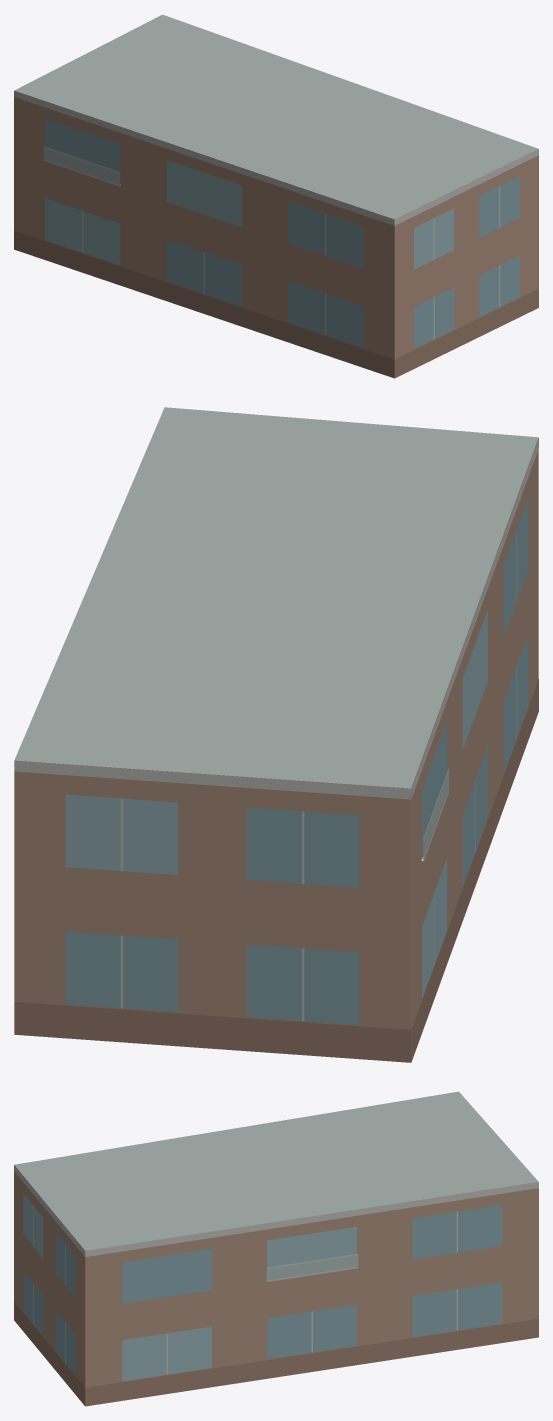
File: survey-upis-32929652.glb
3 renders of one model, top to bottom at view 1: azimuth 30°, elevation 25°; view 2: azimuth 150°, elevation 25°; view 3: azimuth 270°, elevation 25°, orthographic. The views are drawn at different scales.
Visible parts, largest first — view 1: survey-upis-32929652.tmp; view 2: survey-upis-32929652.tmp; view 3: survey-upis-32929652.tmp.
Part boxes in pixels (x1,y1,x2,y2): survey-upis-32929652.tmp: (14, 14, 538, 378); survey-upis-32929652.tmp: (14, 407, 538, 1062); survey-upis-32929652.tmp: (14, 1091, 538, 1406).
Bounding box in the file's own units: 13.42 × 6.1 × 18.67.
